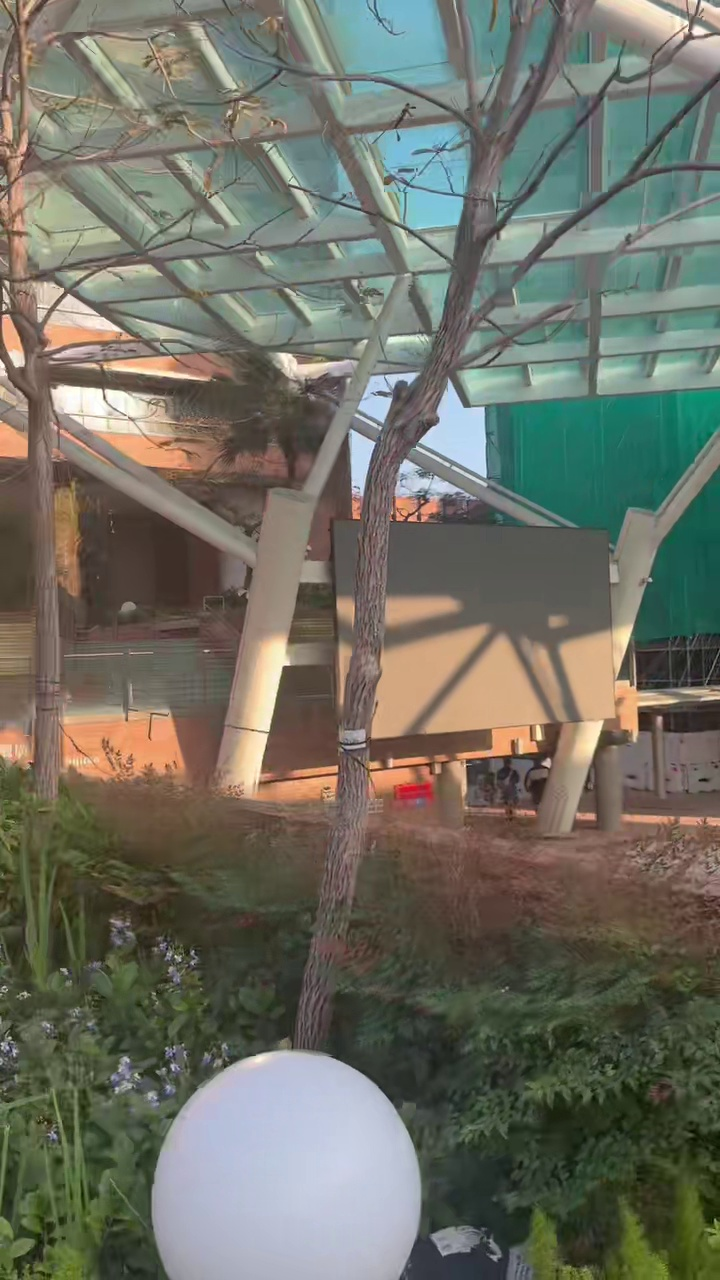Tabebuia chrysantha: (321, 0, 682, 937)
